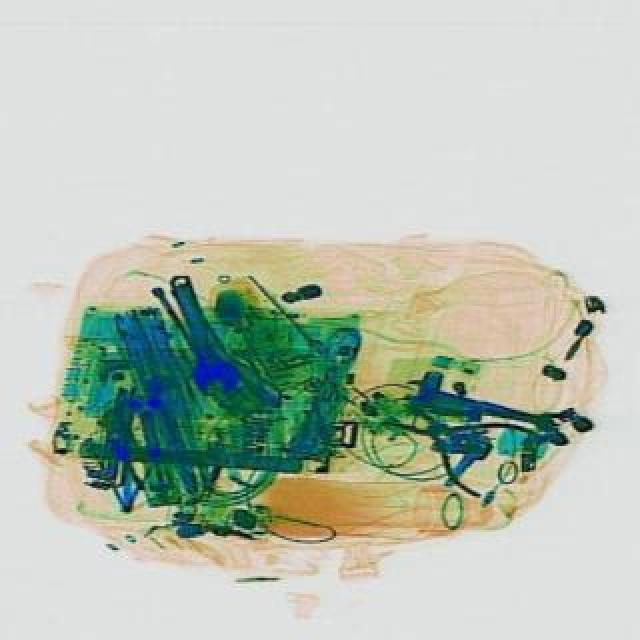scissors: (152, 266, 242, 400), (398, 372, 558, 436)
